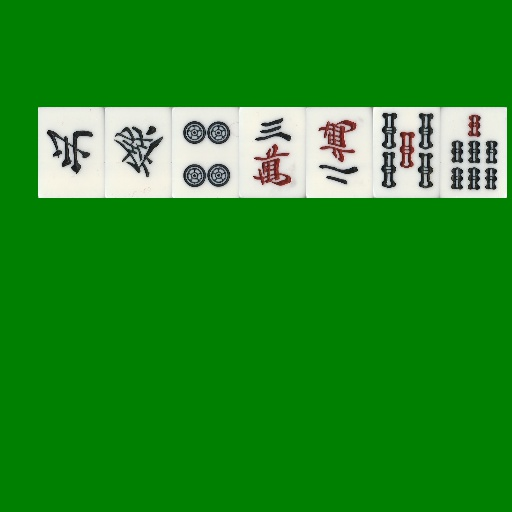2m: (306, 107, 373, 198)
3m: (239, 107, 306, 198)
4p: (172, 107, 239, 198)
5s: (373, 107, 440, 198)
7s: (440, 107, 507, 198)
hatsu: (105, 107, 172, 198)
north: (38, 107, 105, 198)
